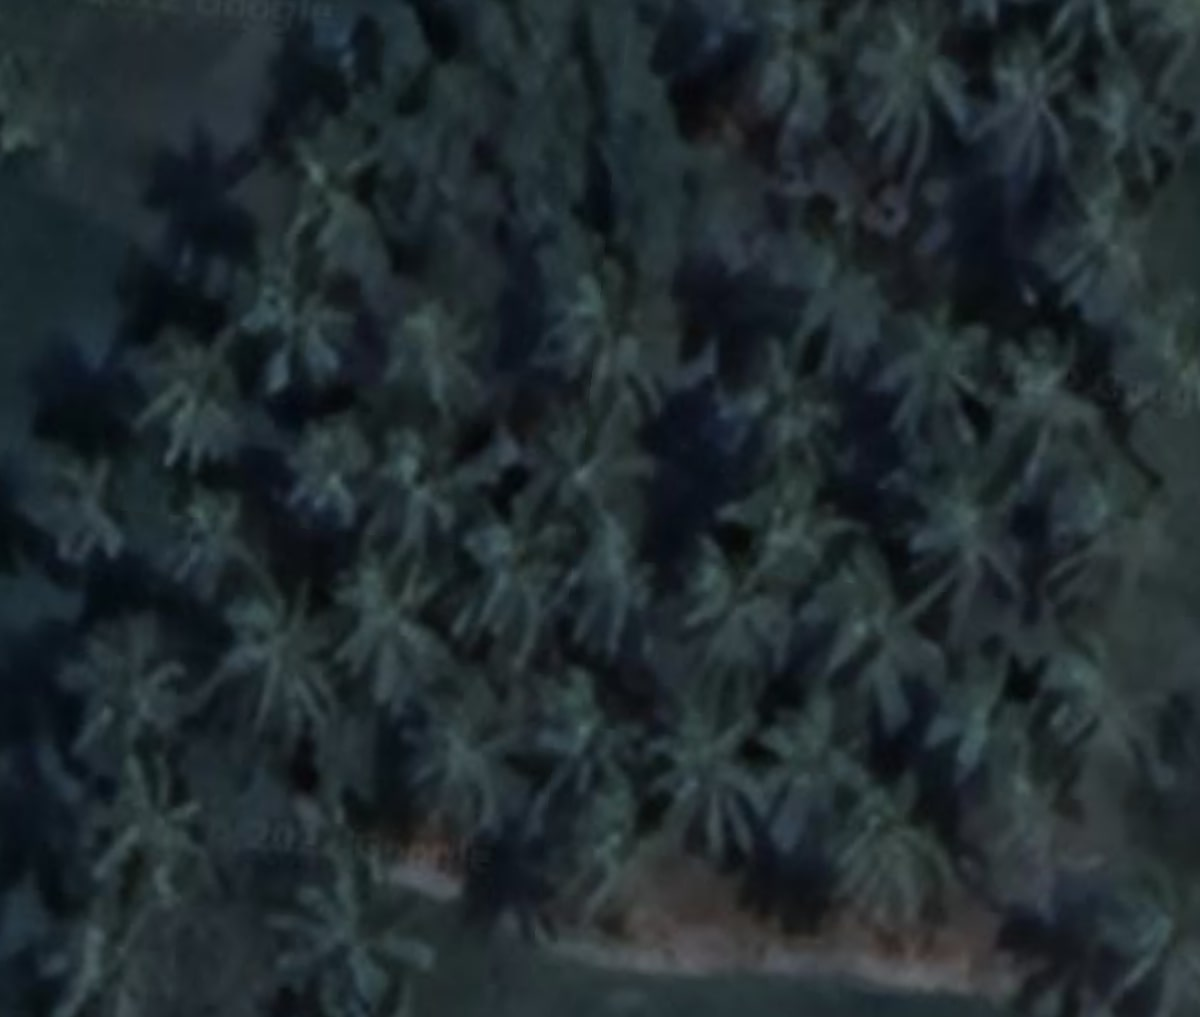coconut: (260, 859, 445, 1017), (44, 587, 205, 769), (636, 689, 771, 845), (384, 694, 531, 834), (903, 467, 1035, 621), (120, 338, 256, 479), (718, 338, 851, 479), (102, 759, 224, 912), (844, 19, 968, 168), (320, 556, 447, 698), (731, 0, 840, 163), (463, 521, 565, 672), (218, 585, 329, 723), (1044, 184, 1152, 323), (235, 276, 355, 400), (903, 314, 1005, 456), (983, 32, 1088, 169), (533, 288, 649, 410), (162, 481, 272, 605), (280, 130, 389, 254), (516, 418, 645, 521), (386, 298, 489, 421), (734, 456, 840, 572), (278, 412, 377, 534)
